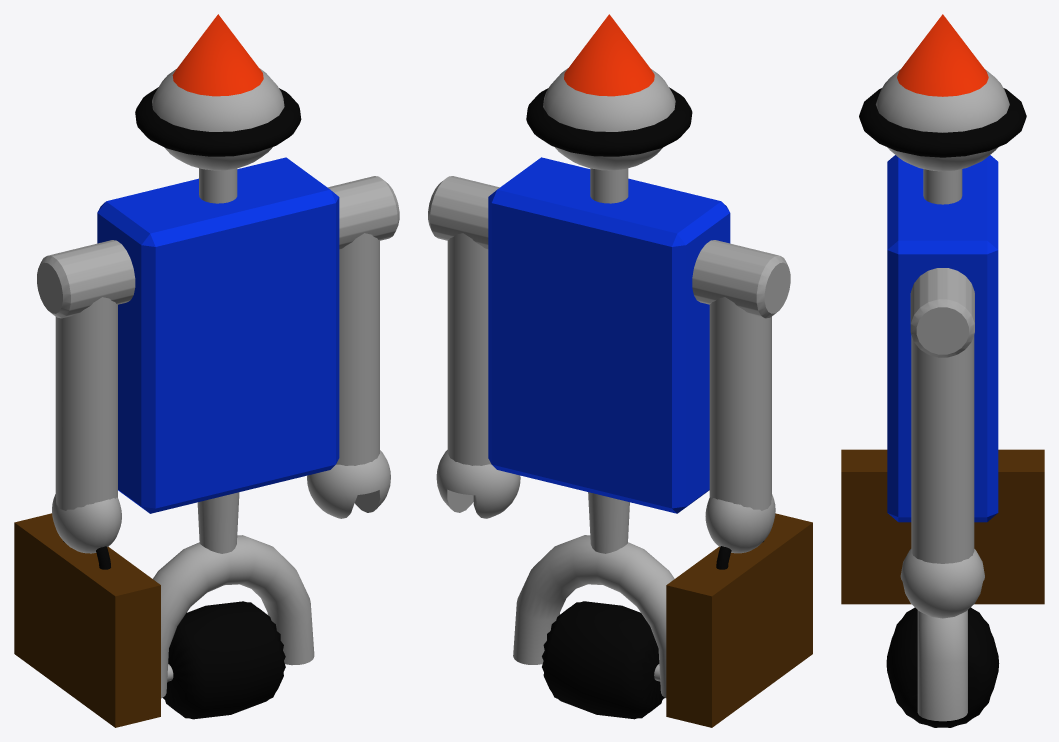
File: NonAggresiveBot.fbx
3 renders of one model, left to right at view 1: azimuth 30°, elevation 25°; view 2: azimuth 150°, elevation 25°; view 3: azimuth 270°, elevation 25°, orthographic.
Parts seen in each view (by area): view 1: pasted__pCube1, polySurface7, pasted__pCylinder8, pasted__pCylinder1, pasted__pTorus1, pasted__polySurface3, pasted__polySurface4, pasted__polySurface5, pasted__polySurface1, pasted__pCylinder3, pasted__pCylinder5; view 2: pasted__pCube1, polySurface7, pasted__pCylinder8, pasted__pCylinder1, pasted__pTorus1, pasted__polySurface3, pasted__polySurface4, pasted__polySurface5, pasted__polySurface1, pasted__pCylinder3, pasted__pCylinder5; view 3: pasted__pCube1, polySurface7, pasted__pCylinder8, pasted__polySurface3, pasted__pCylinder1, pasted__pTorus1, pasted__polySurface1, pasted__polySurface4, pasted__polySurface5, pasted__pCylinder5.
Boxes of the visible parts, left/top/right/bottom form: pasted__pCube1: left=97, top=157, right=339, bottom=513; polySurface7: left=14, top=240, right=160, bottom=727; pasted__pCylinder8: left=307, top=233, right=390, bottom=518; pasted__pCylinder1: left=163, top=601, right=285, bottom=719; pasted__pTorus1: left=153, top=535, right=314, bottom=698; pasted__polySurface3: left=152, top=68, right=284, bottom=170; pasted__polySurface4: left=135, top=87, right=301, bottom=156; pasted__polySurface5: left=172, top=14, right=263, bottom=96; pasted__polySurface1: left=327, top=176, right=399, bottom=249; pasted__pCylinder3: left=197, top=492, right=239, bottom=553; pasted__pCylinder5: left=199, top=168, right=237, bottom=203; pasted__pCube1: left=488, top=157, right=730, bottom=513; polySurface7: left=666, top=240, right=812, bottom=727; pasted__pCylinder8: left=436, top=233, right=520, bottom=518; pasted__pCylinder1: left=542, top=601, right=664, bottom=719; pasted__pTorus1: left=513, top=535, right=674, bottom=697; pasted__polySurface3: left=543, top=68, right=675, bottom=170; pasted__polySurface4: left=526, top=87, right=692, bottom=156; pasted__polySurface5: left=564, top=14, right=654, bottom=96; pasted__polySurface1: left=428, top=176, right=499, bottom=249; pasted__pCylinder3: left=588, top=492, right=629, bottom=553; pasted__pCylinder5: left=590, top=168, right=628, bottom=203; pasted__pCube1: left=887, top=155, right=998, bottom=522; polySurface7: left=841, top=449, right=1044, bottom=604; pasted__pCylinder8: left=900, top=335, right=984, bottom=618; pasted__polySurface3: left=876, top=69, right=1009, bottom=171; pasted__pCylinder1: left=886, top=607, right=999, bottom=727; pasted__pTorus1: left=917, top=610, right=967, bottom=721; pasted__polySurface1: left=910, top=268, right=974, bottom=357; pasted__polySurface4: left=859, top=88, right=1026, bottom=157; pasted__polySurface5: left=897, top=14, right=988, bottom=96; pasted__pCylinder5: left=923, top=169, right=962, bottom=204.
Size of the model in its own units: 6.85 by 13.55 by 3.56.
